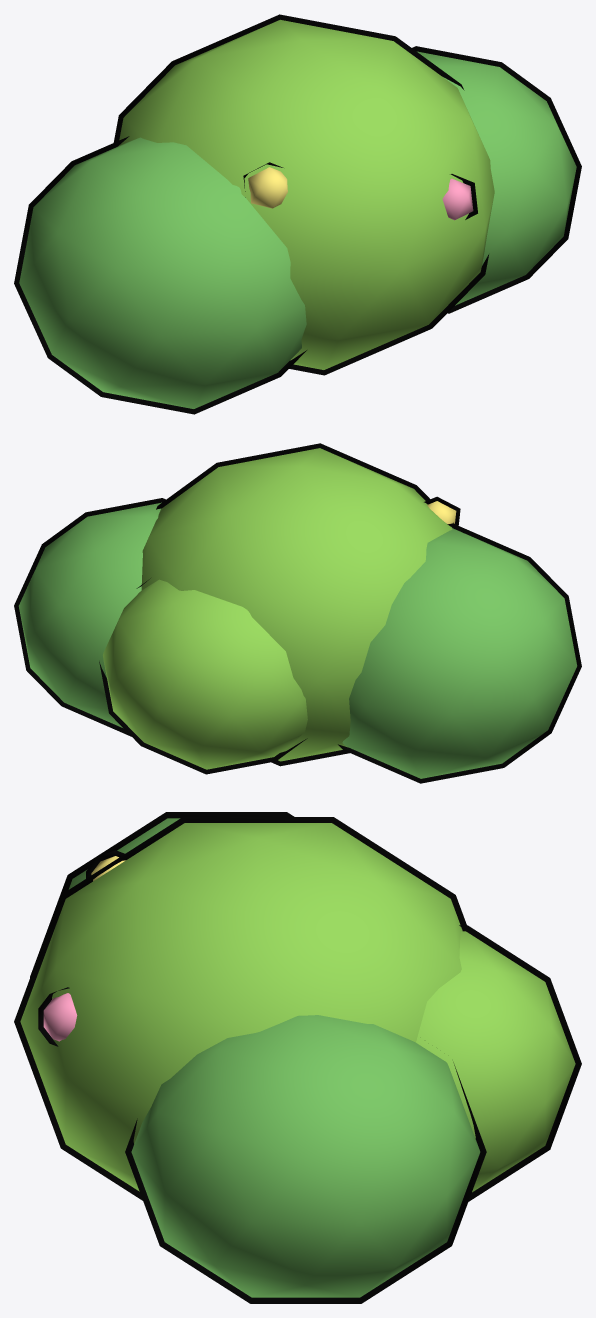
Rendered from Bush.fbx.
3 renders of one model, top to bottom at view 1: azimuth 30°, elevation 25°; view 2: azimuth 150°, elevation 25°; view 3: azimuth 270°, elevation 25°, orthographic. The views are drawn at different scales.
Visible parts, largest first — view 1: Bush; view 2: Bush; view 3: Bush.
Boxes of the visible parts, box(x1,y1,x2,y2) form: Bush: box(14, 14, 581, 414); Bush: box(14, 443, 581, 783); Bush: box(14, 812, 581, 1303).
Size of the model in its own units: 4.76 by 2.63 by 3.58.
